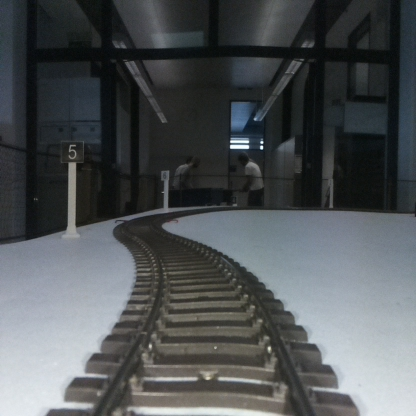black-info-5: (62, 140, 83, 236)
